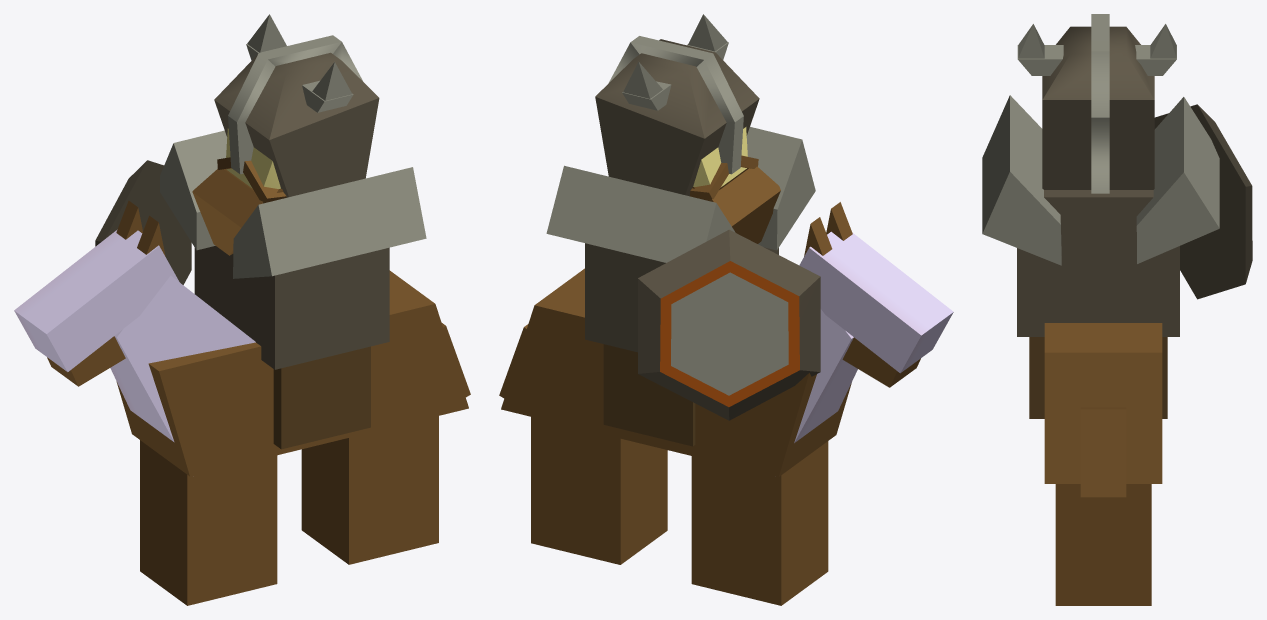
File: vikinggeneralelite.fbx
3 renders of one model, left to right at view 1: azimuth 30°, elevation 25°; view 2: azimuth 150°, elevation 25°; view 3: azimuth 270°, elevation 25°, orthographic. The views are drawn at different scales.
Parts seen in each view (by area): view 1: polySurface220; view 2: polySurface220; view 3: polySurface220.
Part boxes in pixels (x1,y1,x2,y2): polySurface220: (14,14,470,605); polySurface220: (499,14,953,605); polySurface220: (982,14,1252,605).
Bounding box in the file's own units: 45.35 × 52.37 × 24.33.
1 material, 1 textured.
